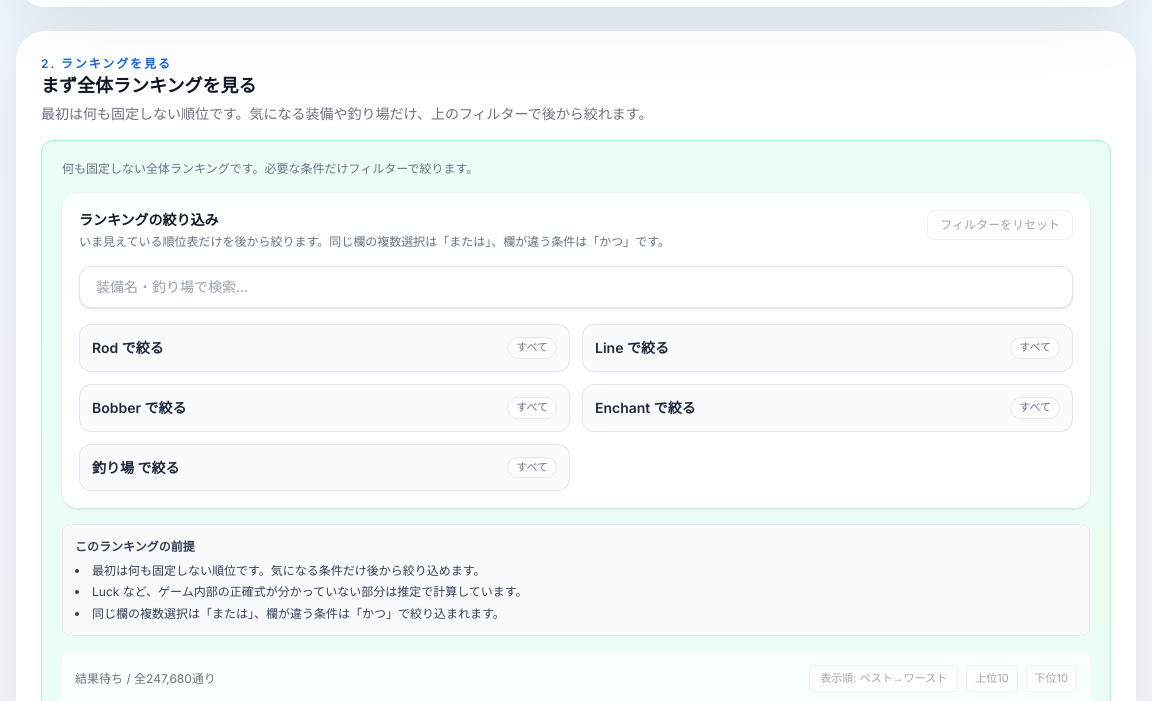
Test: UI quality – overflow and wrapping prevention › ranking filters show active chips instead of changing slot mode
The width and height of the screenshot is (1152, 701).
(page scrolled)
Expected: the text "Rod で絞る" is shown, [79,324,570,372]
Step 1. Click the text "Rod で絞る" → (128, 348), box [92,338,164,358]
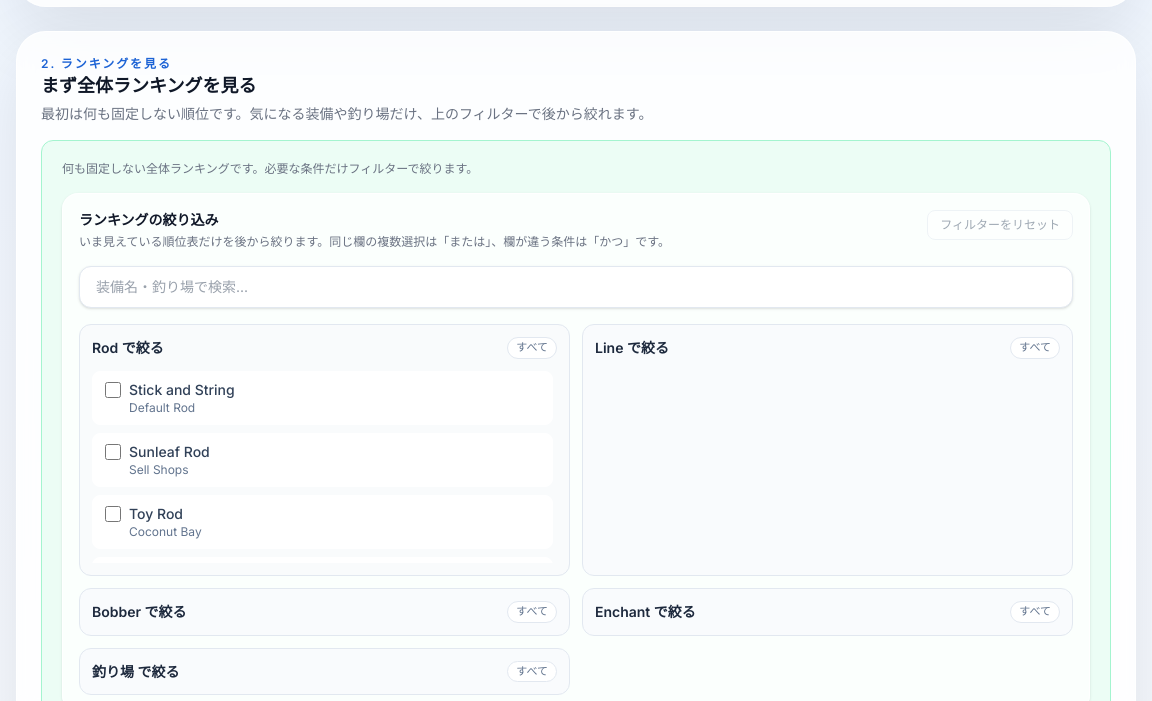
Step 2. Click the checkbox labelled "Sunleaf Rod Sell Shops" → (113, 452), box [105,444,121,460]
(page scrolled)
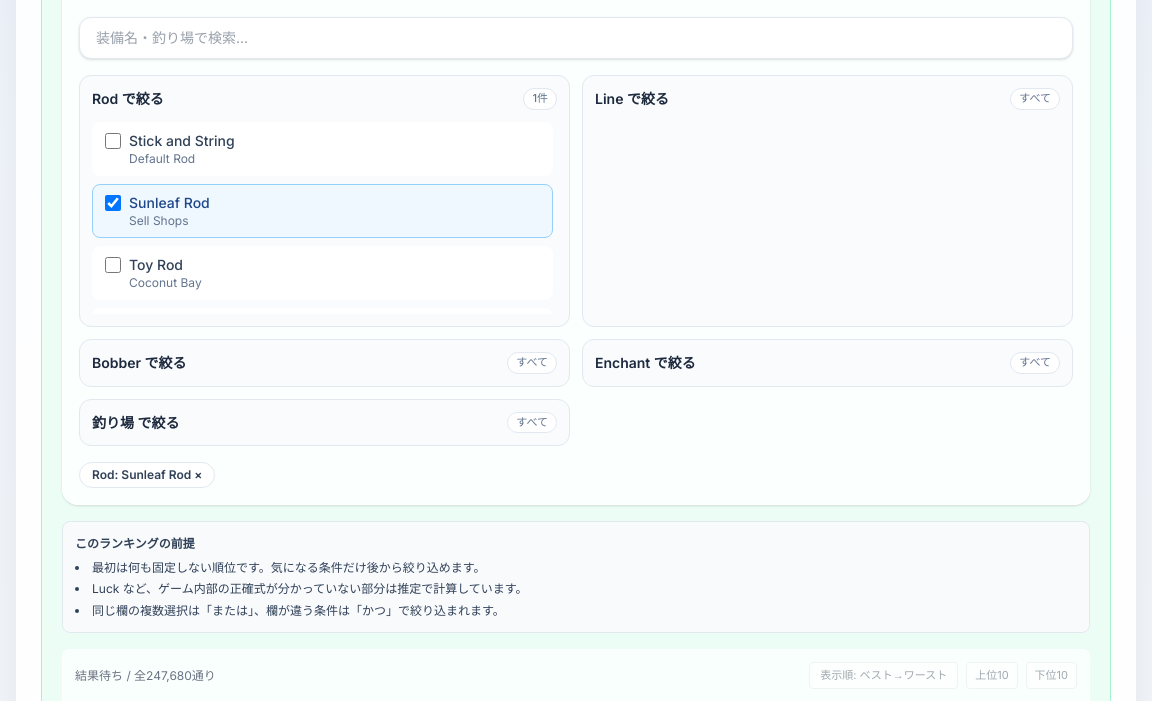
Expected: the element with test id "ranking-active-filter-chips" shows "Rod: Sunleaf Rod", [79,462,215,488]
